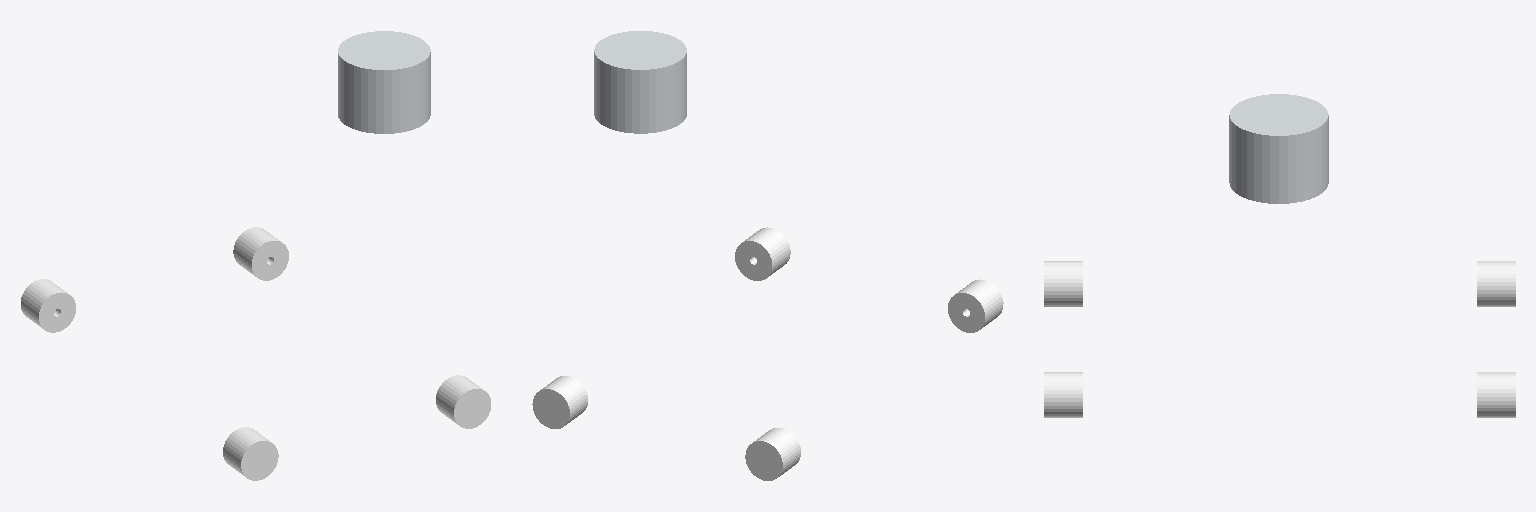
robot.urdf — rebo24:
<?xml version="1.0" encoding="utf-8"?>
<!-- This URDF was automatically created by SolidWorks to URDF Exporter! Originally created by Stephen Brawner (brawner@gmail.com) 
     Commit Version: 1.6.0-4-g7f85cfe  Build Version: 1.6.7995.38578
     For more information, please see http://wiki.ros.org/sw_urdf_exporter -->
<robot
  name="rebo24">
  <link
    name="base_link">
    <inertial>
      <origin
        xyz="8.55232726890975E-05 -0.0100119829894778 0.128146462969362"
        rpy="0 0 0" />
      <mass
        value="43.0826866003702" />
      <inertia
        ixx="0.0828611343550208"
        ixy="9.78260603759178E-06"
        ixz="-0.00639839535470336"
        iyy="0.136405175282193"
        iyz="-3.57369038716547E-05"
        izz="0.138372095637554" />
    </inertial>
    <visual>
      <origin
        xyz="0 0 0"
        rpy="0 0 0" />
      <geometry>
        <mesh
          filename="package://rebo24/meshes/base_link.STL" />
      </geometry>
      <material
        name="">
        <color
          rgba="0.776470588235294 0.756862745098039 0.737254901960784 1" />
      </material>
    </visual>
    <collision>
      <origin
        xyz="0 0 0"
        rpy="0 0 0" />
      <geometry>
        <mesh
          filename="package://rebo24/meshes/base_link.STL" />
      </geometry>
    </collision>
  </link>
  <link
    name="left_ahead_wheel">
    <inertial>
      <origin
        xyz="0 0.000176470588235333 0"
        rpy="0 0 0" />
      <mass
        value="0.0769061881598781" />
      <inertia
        ixx="2.37401286452523E-05"
        ixy="-7.22022899679343E-21"
        ixz="1.67288056091634E-36"
        iyy="2.47117678131373E-05"
        iyz="-2.15747235162655E-22"
        izz="2.37401286452523E-05" />
    </inertial>
    <visual>
      <origin
        xyz="0 0 0"
        rpy="0 0 0" />
      <geometry>
        <mesh
          filename="package://rebo24/meshes/left_ahead_wheel.STL" />
      </geometry>
      <material
        name="">
        <color
          rgba="1 1 1 1" />
      </material>
    </visual>
    <collision>
      <origin
        xyz="0 0 0"
        rpy="0 0 0" />
      <geometry>
        <mesh
          filename="package://rebo24/meshes/left_ahead_wheel.STL" />
      </geometry>
    </collision>
  </link>
  <joint
    name="left_ahead_wheel_joint"
    type="continuous">
    <origin
      xyz="0.141499999999909 0.233000195879141 0"
      rpy="0 0 0" />
    <parent
      link="base_link" />
    <child
      link="left_ahead_wheel" />
    <axis
      xyz="0 1 0" />
  </joint>
  <link
    name="left_back_wheel">
    <inertial>
      <origin
        xyz="0 0.000176470588235333 1.73472347597681E-18"
        rpy="0 0 0" />
      <mass
        value="0.0769061881598781" />
      <inertia
        ixx="2.37401286452523E-05"
        ixy="-9.76621483857307E-21"
        ixz="2.16959437076152E-36"
        iyy="2.47117678131373E-05"
        iyz="-2.15747235162684E-22"
        izz="2.37401286452523E-05" />
    </inertial>
    <visual>
      <origin
        xyz="0 0 0"
        rpy="0 0 0" />
      <geometry>
        <mesh
          filename="package://rebo24/meshes/left_back_wheel.STL" />
      </geometry>
      <material
        name="">
        <color
          rgba="1 1 1 1" />
      </material>
    </visual>
    <collision>
      <origin
        xyz="0 0 0"
        rpy="0 0 0" />
      <geometry>
        <mesh
          filename="package://rebo24/meshes/left_back_wheel.STL" />
      </geometry>
    </collision>
  </link>
  <joint
    name="left_back_wheel_joint"
    type="continuous">
    <origin
      xyz="-0.141500000000089 0.233000195879139 0"
      rpy="0 0 0" />
    <parent
      link="base_link" />
    <child
      link="left_back_wheel" />
    <axis
      xyz="0 1 0" />
  </joint>
  <link
    name="right_ahead_wheel">
    <inertial>
      <origin
        xyz="-1.38777878078145E-17 -0.000176470588235278 0"
        rpy="0 0 0" />
      <mass
        value="0.0769061881598782" />
      <inertia
        ixx="2.37401286452524E-05"
        ixy="-6.45683877469619E-21"
        ixz="-3.01100360415287E-22"
        iyy="2.47117678131373E-05"
        iyz="4.28388872839787E-24"
        izz="2.37401286452524E-05" />
    </inertial>
    <visual>
      <origin
        xyz="0 0 0"
        rpy="0 0 0" />
      <geometry>
        <mesh
          filename="package://rebo24/meshes/right_ahead_wheel.STL" />
      </geometry>
      <material
        name="">
        <color
          rgba="1 1 1 1" />
      </material>
    </visual>
    <collision>
      <origin
        xyz="0 0 0"
        rpy="0 0 0" />
      <geometry>
        <mesh
          filename="package://rebo24/meshes/right_ahead_wheel.STL" />
      </geometry>
    </collision>
  </link>
  <joint
    name="right_ahead_wheel_joint"
    type="continuous">
    <origin
      xyz="0.141500000000031 -0.233000195879137 0"
      rpy="0 0 0" />
    <parent
      link="base_link" />
    <child
      link="right_ahead_wheel" />
    <axis
      xyz="0 1 0" />
  </joint>
  <link
    name="right_back_wheel">
    <inertial>
      <origin
        xyz="5.55111512312578E-17 -0.000176470588235278 0"
        rpy="0 0 0" />
      <mass
        value="0.0769061881598782" />
      <inertia
        ixx="2.37401286452524E-05"
        ixy="-9.08993169383966E-21"
        ixz="-5.49651590874132E-22"
        iyy="2.47117678131373E-05"
        iyz="5.13355412781999E-23"
        izz="2.37401286452524E-05" />
    </inertial>
    <visual>
      <origin
        xyz="0 0 0"
        rpy="0 0 0" />
      <geometry>
        <mesh
          filename="package://rebo24/meshes/right_back_wheel.STL" />
      </geometry>
      <material
        name="">
        <color
          rgba="1 1 1 1" />
      </material>
    </visual>
    <collision>
      <origin
        xyz="0 0 0"
        rpy="0 0 0" />
      <geometry>
        <mesh
          filename="package://rebo24/meshes/right_back_wheel.STL" />
      </geometry>
    </collision>
  </link>
  <joint
    name="right_back_wheel_joint"
    type="continuous">
    <origin
      xyz="-0.14149999999997 -0.233000195879138 0"
      rpy="0 0 0" />
    <parent
      link="base_link" />
    <child
      link="right_back_wheel" />
    <axis
      xyz="0 1 0" />
  </joint>
  <link
    name="lidar">
    <inertial>
      <origin
        xyz="-1.2490009027033E-16 -1.16573417585641E-15 2.22044604925031E-16"
        rpy="0 0 0" />
      <mass
        value="1.96655555535767" />
      <inertia
        ixx="0.00248240765947242"
        ixy="6.63226797699442E-20"
        ixz="-3.04038442387346E-16"
        iyy="0.00248240765947242"
        iyz="-2.10733077855723E-19"
        izz="0.00281438681916124" />
    </inertial>
    <visual>
      <origin
        xyz="0 0 0"
        rpy="0 0 0" />
      <geometry>
        <mesh
          filename="package://rebo24/meshes/lidar.STL" />
      </geometry>
      <material
        name="">
        <color
          rgba="0.898039215686275 0.917647058823529 0.929411764705882 1" />
      </material>
    </visual>
    <collision>
      <origin
        xyz="0 0 0"
        rpy="0 0 0" />
      <geometry>
        <mesh
          filename="package://rebo24/meshes/lidar.STL" />
      </geometry>
    </collision>
  </link>
  <joint
    name="lidar_joint"
    type="fixed">
    <origin
      xyz="0.169999999999687 -0.00100019587911868 0.305700000000706"
      rpy="0 0 0" />
    <parent
      link="base_link" />
    <child
      link="lidar" />
    <axis
      xyz="0 0 0" />
  </joint>



  <link
    name="camera_link">
    <inertial>
      <origin
        xyz="-0.000329866874006227 -3.7237912406396E-07 0.000586716130506204"
        rpy="0 0 0" />
      <mass
        value="0.048201398677882" />
      <inertia
        ixx="2.73914552602096E-05"
        ixy="-4.25989861649038E-07"
        ixz="7.54926375849486E-09"
        iyy="3.35061197625381E-06"
        iyz="2.11610730821827E-09"
        izz="2.66521456031395E-05" />
    </inertial>
    <visual>
      <origin
        xyz="0 0 0"
        rpy="0 0 0" />
      <geometry>
        <mesh
          filename="package://rebo24/meshes/camera_link.STL" />
      </geometry>
      <material
        name="">
        <color
          rgba="0.776470588235294 0.756862745098039 0.737254901960784 1" />
      </material>
    </visual>
    <collision>
      <origin
        xyz="0 0 0"
        rpy="0 0 0" />
      <geometry>
        <mesh
          filename="package://rebo24/meshes/camera_link.STL" />
      </geometry>
    </collision>
  </link>
  <joint
    name="camera_joint"
    type="fixed">
    <origin
      xyz="0.265499999999739 -0.000519114270499249 0.248720793604667"
      rpy="0 0 0" />
    <parent
      link="base_link" />
    <child
      link="camera_link" />
    <axis
      xyz="0 0 0" />
  </joint>

  <!-- D435i官方坐标系链：depth/infra/color/imu -->
  <link name="camera_depth_frame"/>
  <joint name="camera_depth_joint" type="fixed">
    <parent link="camera_link"/>
    <child link="camera_depth_frame"/>
    <origin xyz="0 0 0" rpy="0 0 0"/>
  </joint>
  <link name="camera_depth_optical_frame"/>
  <joint name="camera_depth_optical_joint" type="fixed">
    <parent link="camera_depth_frame"/>
    <child link="camera_depth_optical_frame"/>
    <origin xyz="0 0 0" rpy="-1.57079632679 0 -1.57079632679"/>
  </joint>

  <link name="camera_infra1_frame"/>
  <joint name="camera_infra1_joint" type="fixed">
    <parent link="camera_link"/>
    <child link="camera_infra1_frame"/>
    <origin xyz="0 0 0" rpy="0 0 0"/>
  </joint>
  <link name="camera_infra1_optical_frame"/>
  <joint name="camera_infra1_optical_joint" type="fixed">
    <parent link="camera_infra1_frame"/>
    <child link="camera_infra1_optical_frame"/>
    <origin xyz="0 0 0" rpy="-1.57079632679 0 -1.57079632679"/>
  </joint>

  <link name="camera_infra2_frame"/>
  <joint name="camera_infra2_joint" type="fixed">
    <parent link="camera_link"/>
    <child link="camera_infra2_frame"/>
    <origin xyz="0 -0.050 0" rpy="0 0 0"/>
  </joint>
  <link name="camera_infra2_optical_frame"/>
  <joint name="camera_infra2_optical_joint" type="fixed">
    <parent link="camera_infra2_frame"/>
    <child link="camera_infra2_optical_frame"/>
    <origin xyz="0 0 0" rpy="-1.57079632679 0 -1.57079632679"/>
  </joint>

  <link name="camera_color_frame"/>
  <joint name="camera_color_joint" type="fixed">
    <parent link="camera_link"/>
    <child link="camera_color_frame"/>
    <origin xyz="0 0.015 0" rpy="0 0 0"/>
  </joint>
  <link name="camera_color_optical_frame"/>
  <joint name="camera_color_optical_joint" type="fixed">
    <parent link="camera_color_frame"/>
    <child link="camera_color_optical_frame"/>
    <origin xyz="0 0 0" rpy="-1.57079632679 0 -1.57079632679"/>
  </joint>

  <link name="camera_imu_frame"/>
  <joint name="camera_imu_joint" type="fixed">
    <parent link="camera_link"/>
    <child link="camera_imu_frame"/>
    <origin xyz="-0.01174 -0.00552 0.0051" rpy="0 0 0"/>
  </joint>
  <link name="camera_imu_optical_frame"/>
  <joint name="camera_imu_optical_joint" type="fixed">
    <parent link="camera_imu_frame"/>
    <child link="camera_imu_optical_frame"/>
    <origin xyz="0 0 0" rpy="-1.57079632679 0 -1.57079632679"/>
  </joint>

  <link name="camera_accel_frame"/>
  <joint name="camera_accel_joint" type="fixed">
    <parent link="camera_link"/>
    <child link="camera_accel_frame"/>
    <origin xyz="-0.01174 -0.00552 0.0051" rpy="0 0 0"/>
  </joint>
  <link name="camera_accel_optical_frame"/>
  <joint name="camera_accel_optical_joint" type="fixed">
    <parent link="camera_accel_frame"/>
    <child link="camera_accel_optical_frame"/>
    <origin xyz="0 0 0" rpy="-1.57079632679 0 -1.57079632679"/>
  </joint>

  <link name="camera_gyro_frame"/>
  <joint name="camera_gyro_joint" type="fixed">
    <parent link="camera_link"/>
    <child link="camera_gyro_frame"/>
    <origin xyz="-0.01174 -0.00552 0.0051" rpy="0 0 0"/>
  </joint>
  <link name="camera_gyro_optical_frame"/>
  <joint name="camera_gyro_optical_joint" type="fixed">
    <parent link="camera_gyro_frame"/>
    <child link="camera_gyro_optical_frame"/>
    <origin xyz="0 0 0" rpy="-1.57079632679 0 -1.57079632679"/>
  </joint>

  <link
    name="imu_link">
    <inertial>
      <origin
        xyz="5.19522064257316E-11 -1.1731134882953E-09 -0.00246765057435855"
        rpy="0 0 0" />
      <mass
        value="0.105365739619058" />
      <inertia
        ixx="1.92602986407333E-05"
        ixy="-1.00153477604229E-20"
        ixz="-7.37106893453943E-18"
        iyy="1.92602986407333E-05"
        iyz="2.63013342156866E-21"
        izz="2.73103643815558E-05" />
    </inertial>
    <visual>
      <origin
        xyz="0 0 0"
        rpy="0 0 0" />
      <geometry>
        <mesh
          filename="package://rebo24/meshes/imu_link.STL" />
      </geometry>
      <material
        name="">
        <color
          rgba="0.898039215686275 0.917647058823529 0.929411764705882 1" />
      </material>
    </visual>
    <collision>
      <origin
        xyz="0 0 0"
        rpy="0 0 0" />
      <geometry>
        <mesh
          filename="package://rebo24/meshes/imu_link.STL" />
      </geometry>
    </collision>
  </link>
  <joint
    name="imu_joint"
    type="fixed">
    <origin
      xyz="0.169999999947848 -0.00100019470600629 0.183950000000706"
      rpy="0 0 0" />
    <parent
      link="base_link" />
    <child
      link="imu_link" />
    <axis
      xyz="0 0 0" />
  </joint>

<!-- ========================== 仿真内容（轮子、差速、激光雷达全部保留） ========================== -->
  <!-- 轮子摩擦和接触参数 -->
  <gazebo reference="left_ahead_wheel">
    <mu1>1.0</mu1>
    <mu2>1.0</mu2>
    <kp>1000000.0</kp>
    <kd>1.0</kd>
    <minDepth>0.001</minDepth>
    <maxVel>1.0</maxVel>
  </gazebo>
  <gazebo reference="left_back_wheel">
    <mu1>1.0</mu1>
    <mu2>1.0</mu2>
    <kp>1000000.0</kp>
    <kd>1.0</kd>
    <minDepth>0.001</minDepth>
    <maxVel>1.0</maxVel>
  </gazebo>
  <gazebo reference="right_ahead_wheel">
    <mu1>1.0</mu1>
    <mu2>1.0</mu2>
    <kp>1000000.0</kp>
    <kd>1.0</kd>
    <minDepth>0.001</minDepth>
    <maxVel>1.0</maxVel>
  </gazebo>
  <gazebo reference="right_back_wheel">
    <mu1>1.0</mu1>
    <mu2>1.0</mu2>
    <kp>1000000.0</kp>
    <kd>1.0</kd>
    <minDepth>0.001</minDepth>
    <maxVel>1.0</maxVel>
  </gazebo>

  <!-- Velodyne VLP-16（官方velodyne_description参数） -->
  <gazebo reference="lidar">
    <sensor type="ray" name="lidar_vlp16">
      <pose>0 0 0 0 0 0</pose>
      <visualize>false</visualize>
      <update_rate>10.0</update_rate>
      <ray>
        <scan>
          <horizontal>
            <samples>1875</samples>
            <resolution>1</resolution>
            <min_angle>-3.1415926535897931</min_angle>
            <max_angle>3.1415926535897931</max_angle>
          </horizontal>
          <vertical>
            <samples>16</samples>
            <resolution>1</resolution>
            <min_angle>-0.2617993877991494</min_angle>
            <max_angle>0.2617993877991494</max_angle>
          </vertical>
        </scan>
        <range>
          <min>0.09</min>
          <max>131.0</max>
          <resolution>0.001</resolution>
        </range>
        <noise>
          <type>gaussian</type>
          <mean>0.0</mean>
          <stddev>0.0</stddev>
        </noise>
      </ray>
      <plugin name="gazebo_ros_lidar_controller" filename="libgazebo_ros_velodyne_laser.so">
        <topicName>/velodyne_points</topicName>
        <frameName>lidar</frameName>
        <organize_cloud>false</organize_cloud>
        <min_range>0.09</min_range>
        <max_range>130.0</max_range>
        <gaussianNoise>0.008</gaussianNoise>
      </plugin>
    </sensor>
  </gazebo>

  <!-- RealSense D435i（官方D435i坐标系+realsense_gazebo_plugin） -->
  <gazebo reference="camera_link">
    <sensor type="depth" name="camera_depth">
      <always_on>true</always_on>
      <visualize>false</visualize>
      <update_rate>30.0</update_rate>
      <camera name="depth_camera">
        <horizontal_fov>1.5184364492350666</horizontal_fov>
        <image>
          <width>1280</width>
          <height>720</height>
          <format>RGB_INT8</format>
        </image>
        <clip>
          <near>0.105</near>
          <far>10.0</far>
        </clip>
      </camera>
    </sensor>

    <sensor type="camera" name="camera_ired1">
      <always_on>true</always_on>
      <visualize>false</visualize>
      <update_rate>30.0</update_rate>
      <pose>0 0 0 0 0 0</pose>
      <camera name="infrared1_camera">
        <horizontal_fov>1.5184364492350666</horizontal_fov>
        <image>
          <width>1280</width>
          <height>720</height>
          <format>L_INT8</format>
        </image>
        <clip>
          <near>0.105</near>
          <far>10.0</far>
        </clip>
      </camera>
    </sensor>

    <sensor type="camera" name="camera_ired2">
      <always_on>true</always_on>
      <visualize>false</visualize>
      <update_rate>30.0</update_rate>
      <pose>0 -0.050 0 0 0 0</pose>
      <camera name="infrared2_camera">
        <horizontal_fov>1.5184364492350666</horizontal_fov>
        <image>
          <width>1280</width>
          <height>720</height>
          <format>L_INT8</format>
        </image>
        <clip>
          <near>0.105</near>
          <far>10.0</far>
        </clip>
      </camera>
    </sensor>

    <sensor type="camera" name="camera_color">
      <always_on>true</always_on>
      <visualize>false</visualize>
      <update_rate>30.0</update_rate>
      <pose>0 0.015 0 0 0 0</pose>
      <camera name="color_camera">
        <horizontal_fov>1.211258531</horizontal_fov>
        <image>
          <width>1920</width>
          <height>1080</height>
          <format>RGB_INT8</format>
        </image>
        <clip>
          <near>0.105</near>
          <far>10.0</far>
        </clip>
      </camera>
    </sensor>
  </gazebo>

  <gazebo reference="camera_imu_frame">
    <sensor type="imu" name="camera_imu_sensor">
      <always_on>true</always_on>
      <visualize>false</visualize>
      <update_rate>200.0</update_rate>
      <imu>
        <angular_velocity>
          <x>
            <noise type="gaussian">
              <mean>0.0</mean>
              <stddev>0.00244</stddev>
            </noise>
          </x>
          <y>
            <noise type="gaussian">
              <mean>0.0</mean>
              <stddev>0.00244</stddev>
            </noise>
          </y>
          <z>
            <noise type="gaussian">
              <mean>0.0</mean>
              <stddev>0.00244</stddev>
            </noise>
          </z>
        </angular_velocity>
        <linear_acceleration>
          <x>
            <noise type="gaussian">
              <mean>0.0</mean>
              <stddev>0.018</stddev>
            </noise>
          </x>
          <y>
            <noise type="gaussian">
              <mean>0.0</mean>
              <stddev>0.018</stddev>
            </noise>
          </y>
          <z>
            <noise type="gaussian">
              <mean>0.0</mean>
              <stddev>0.018</stddev>
            </noise>
          </z>
        </linear_acceleration>
      </imu>
      <plugin name="camera_imu_plugin" filename="libgazebo_ros_imu_sensor.so">
        <topicName>/camera/imu</topicName>
        <frameName>camera_imu_frame</frameName>
        <updateRateHZ>200.0</updateRateHZ>
        <gaussianNoise>0.0</gaussianNoise>
        <xyzOffset>0 0 0</xyzOffset>
        <rpyOffset>0 0 0</rpyOffset>
      </plugin>
    </sensor>
  </gazebo>

  <gazebo>
    <plugin name="realsense_d435i_controller" filename="librealsense_gazebo_plugin.so">
      <prefix>camera_</prefix>
      <depthUpdateRate>30.0</depthUpdateRate>
      <colorUpdateRate>30.0</colorUpdateRate>
      <infraredUpdateRate>30.0</infraredUpdateRate>
      <depthTopicName>/camera/depth/image_rect_raw</depthTopicName>
      <depthCameraInfoTopicName>/camera/depth/camera_info</depthCameraInfoTopicName>
      <colorTopicName>/camera/color/image_raw</colorTopicName>
      <colorCameraInfoTopicName>/camera/color/camera_info</colorCameraInfoTopicName>
      <infrared1TopicName>/camera/infra1/image_rect_raw</infrared1TopicName>
      <infrared1CameraInfoTopicName>/camera/infra1/camera_info</infrared1CameraInfoTopicName>
      <infrared2TopicName>/camera/infra2/image_rect_raw</infrared2TopicName>
      <infrared2CameraInfoTopicName>/camera/infra2/camera_info</infrared2CameraInfoTopicName>
      <colorOpticalframeName>camera_color_optical_frame</colorOpticalframeName>
      <depthOpticalframeName>camera_depth_optical_frame</depthOpticalframeName>
      <infrared1OpticalframeName>camera_infra1_optical_frame</infrared1OpticalframeName>
      <infrared2OpticalframeName>camera_infra2_optical_frame</infrared2OpticalframeName>
      <rangeMinDepth>0.105</rangeMinDepth>
      <rangeMaxDepth>10.0</rangeMaxDepth>
      <pointCloud>true</pointCloud>
      <pointCloudTopicName>/camera/depth/color/points</pointCloudTopicName>
      <pointCloudCutoff>0.105</pointCloudCutoff>
      <pointCloudCutoffMax>10.0</pointCloudCutoffMax>
      <robotNamespace>/</robotNamespace>
    </plugin>
  </gazebo>

  <!-- 运动学 -->
  <gazebo>
    <plugin name="differential_drive_controller" filename="libgazebo_ros_diff_drive.so">
      <ros>
        <namespace></namespace>
      </ros>
      <!-- FAST-LIO作为主里程计时，关闭Gazebo轮速里程计发布，避免与FAST-LIO重复发布里程计/TF -->
      <!-- 以前是true：用于纯Gazebo差速里程计；现在改为false：由FAST-LIO输出位姿 -->
      <publishOdom>false</publishOdom>
      <publishOdomTF>false</publishOdomTF>
      <publishWheelTF>false</publishWheelTF>
      <odometryFrame>odom</odometryFrame>
      <robotBaseFrame>base_link</robotBaseFrame>
      <leftJoint>left_ahead_wheel_joint</leftJoint>
      <leftJoint>left_back_wheel_joint</leftJoint>
      <rightJoint>right_ahead_wheel_joint</rightJoint>
      <rightJoint>right_back_wheel_joint</rightJoint>
      <wheelSeparation>0.466</wheelSeparation>
      <wheelDiameter>0.050</wheelDiameter>
      <wheelTorque>10.0</wheelTorque>
      <wheelAcceleration>10.0</wheelAcceleration>
      <commandTopic>cmd_vel</commandTopic>
      <odometryTopic>odom</odometryTopic>
      <updateRate>100</updateRate>
    </plugin>
  </gazebo>


</robot>

--- What the picture shows (computed from the rendered views, not written in the file) ---
Views: 3 orthographic renders of the robot side by side, from view 1: azimuth 30°, elevation 25°; view 2: azimuth 150°, elevation 25°; view 3: azimuth 270°, elevation 25°.
Model rebo24 with 22 links and 21 joints (4 continuous, 17 fixed), rooted at base_link, posed all joints at 0.
Links seen in each view (by area): view 1: lidar, right_ahead_wheel, right_back_wheel, left_back_wheel, left_ahead_wheel; view 2: lidar, right_ahead_wheel, left_back_wheel, right_back_wheel, left_ahead_wheel; view 3: lidar, left_ahead_wheel, left_back_wheel, right_ahead_wheel, right_back_wheel.
Link boxes in pixels (left/top/right/bottom): lidar: left=338, top=31, right=430, bottom=133; right_ahead_wheel: left=436, top=375, right=490, bottom=428; right_back_wheel: left=223, top=427, right=278, bottom=480; left_back_wheel: left=21, top=279, right=75, bottom=332; left_ahead_wheel: left=233, top=227, right=288, bottom=280; lidar: left=594, top=31, right=686, bottom=133; right_ahead_wheel: left=735, top=227, right=790, bottom=280; left_back_wheel: left=745, top=428, right=800, bottom=480; right_back_wheel: left=948, top=279, right=1003, bottom=332; left_ahead_wheel: left=532, top=376, right=587, bottom=428; lidar: left=1229, top=94, right=1328, bottom=203; left_ahead_wheel: left=1477, top=372, right=1515, bottom=417; left_back_wheel: left=1477, top=261, right=1515, bottom=306; right_ahead_wheel: left=1044, top=372, right=1082, bottom=417; right_back_wheel: left=1044, top=261, right=1082, bottom=306.
Size in the robot's own frame: 0.39 by 0.508 by 0.3712 metres.
Meshes: 8 distinct files referenced, 5 mesh visuals loaded (5 binary STL); not drawn: 3 (reference not matched to a file when rendering).
